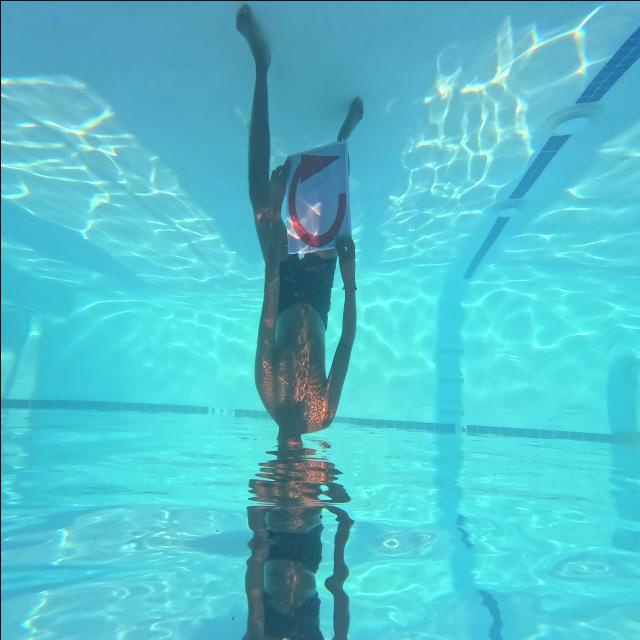red_side: (287, 156, 347, 254)
